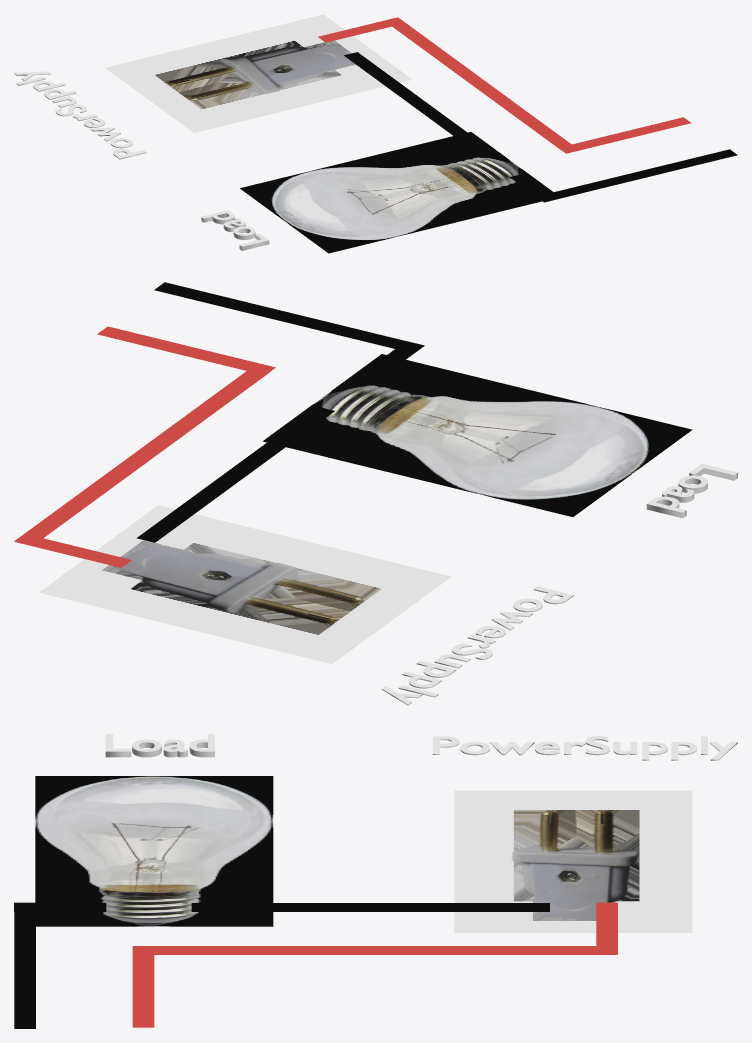
The model's file is circuitbuild1.gltf.
3 renders of one model, top to bottom at view 1: azimuth 30°, elevation 25°; view 2: azimuth 150°, elevation 25°; view 3: azimuth 270°, elevation 25°, orthographic. The views are drawn at different scales.
Visible parts, largest first — view 1: Plane.001, Plane.002, Plane.009, Text, Plane.005, Plane.003, Text.001, Plane.010, Plane.008, Plane.004; view 2: Plane.001, Plane.002, Plane.009, Plane.005, Text, Plane.003, Plane.010, Text.001, Plane.008, Plane.004; view 3: Plane.001, Plane.002, Plane.009, Plane.005, Text, Plane.003, Plane.010, Text.001, Plane.008, Plane.004.
Part boxes in pixels (box(x1,y1,x2,y2)): Plane.001: box(240, 132, 553, 253); Plane.002: box(105, 14, 412, 132); Plane.009: box(384, 17, 571, 149); Text: box(14, 71, 146, 159); Plane.005: box(344, 52, 491, 153); Plane.003: box(545, 149, 737, 199); Text.001: box(201, 210, 269, 250); Plane.010: box(561, 117, 691, 153); Plane.008: box(318, 17, 404, 42); Plane.004: box(510, 174, 556, 202); Plane.001: box(262, 354, 692, 516); Plane.002: box(39, 505, 451, 663); Plane.009: box(14, 368, 269, 544); Plane.005: box(136, 406, 334, 542); Text: box(381, 586, 573, 705); Plane.003: box(154, 282, 411, 349); Plane.010: box(97, 326, 275, 375); Text.001: box(646, 464, 737, 518); Plane.008: box(15, 534, 131, 567); Plane.004: box(360, 341, 424, 379); Plane.001: box(35, 776, 273, 926); Plane.002: box(454, 790, 692, 932); Plane.009: box(145, 946, 617, 954); Plane.005: box(191, 903, 549, 911); Text: box(432, 736, 737, 760); Plane.003: box(14, 909, 35, 1028); Plane.010: box(132, 946, 154, 1027); Text.001: box(105, 734, 214, 757); Plane.008: box(596, 902, 617, 954); Plane.004: box(14, 902, 106, 911).
Size of the model in its own units: 5.98 by 0.103 by 6.09.
Materials: 5 (2 with a texture image).
